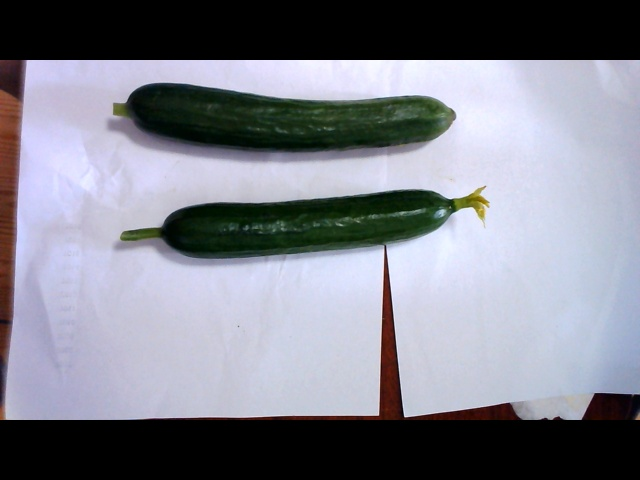cucumber: (124, 173, 488, 259), (90, 74, 460, 152)
